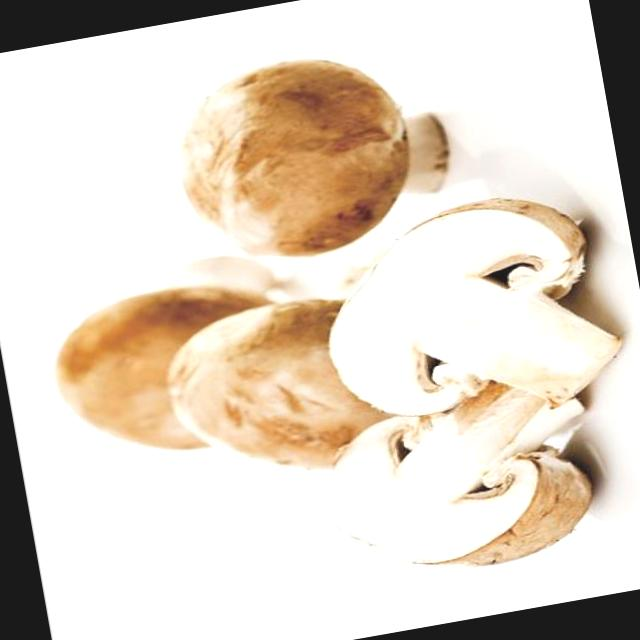Agaricus bisporus: (306, 168, 616, 438), (162, 39, 464, 276), (304, 354, 604, 589), (161, 285, 384, 496)
